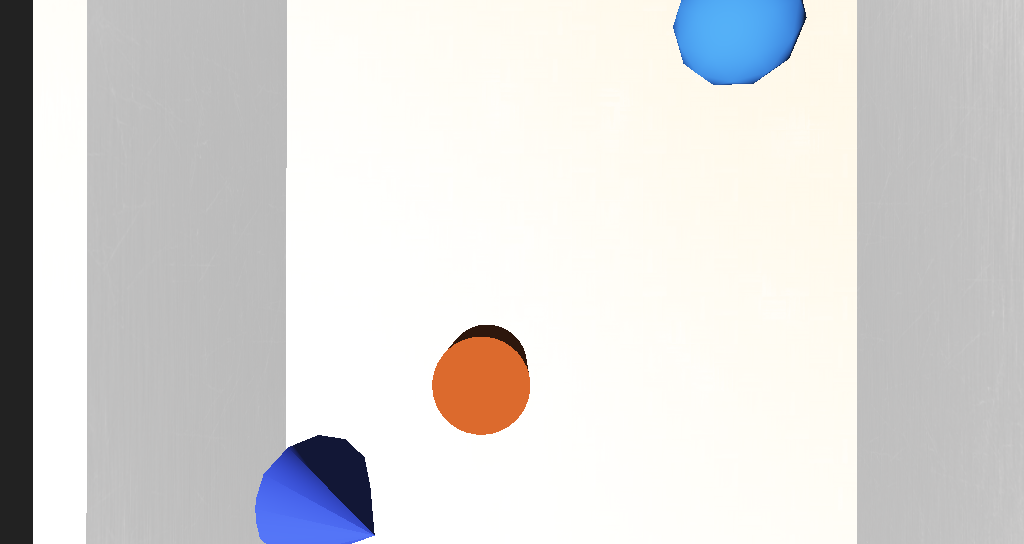cone: (435, 286, 482, 324)
cylinder: (330, 324, 438, 382)
sphere: (552, 160, 620, 203)
